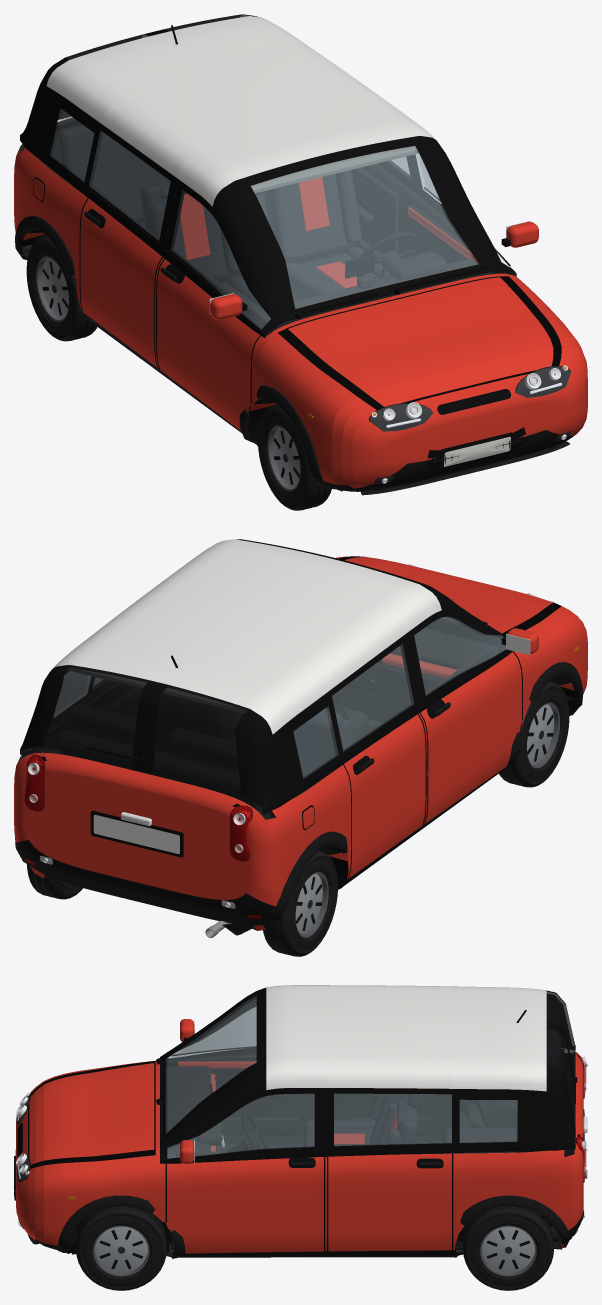
The model's file is pico_lod1.glb.
3 renders of one model, top to bottom at view 1: azimuth 30°, elevation 25°; view 2: azimuth 150°, elevation 25°; view 3: azimuth 270°, elevation 25°, orthographic. The views are drawn at different scales.
Parts seen in each view (by area): view 1: pico, hood, door_FR, door_RR, seat_driver, seat_passenger, seat_rear, popout_RR, wheel_FR, wheel_RR, door_card_RL, door_FL (+4 smaller); view 2: pico, tailgate, door_FR, door_RR, seat_rear, popout_RR, wheel_RR, hood, wheel_FR, seat_driver, seat_passenger, dash_glovebox (+3 smaller); view 3: pico, door_FL, door_RL, hood, wheel_FL, wheel_RL, popout_RL, tailgate, door_card_FR, door_FR, door_card_RR, seat_passenger (+4 smaller).
Part boxes in pixels (x1,y1,x2,y2): pico: (14, 16, 587, 495); hood: (288, 277, 553, 406); door_FR: (155, 179, 271, 443); door_RR: (79, 124, 174, 367); seat_driver: (263, 170, 388, 299); seat_passenger: (140, 180, 262, 310); seat_rear: (57, 124, 267, 227); popout_RR: (89, 131, 170, 240); wheel_FR: (258, 404, 331, 510); wheel_RR: (26, 235, 97, 341); door_card_RL: (343, 167, 398, 259); door_FL: (411, 153, 538, 274); pico: (14, 539, 587, 937); tailgate: (20, 665, 286, 826); door_FR: (407, 610, 538, 824); door_RR: (330, 635, 425, 879); seat_rear: (58, 704, 269, 819); popout_RR: (332, 644, 413, 751); wheel_RR: (263, 850, 337, 956); hood: (345, 557, 552, 633); wheel_FR: (499, 681, 569, 787); seat_driver: (142, 689, 236, 753); seat_passenger: (293, 708, 354, 795); dash_glovebox: (385, 667, 442, 702); pico: (14, 985, 587, 1258); door_FL: (166, 1088, 326, 1258); door_RL: (328, 1088, 455, 1251); hood: (29, 1063, 154, 1164); wheel_FL: (76, 1205, 166, 1290); wheel_RL: (463, 1205, 553, 1290); popout_RL: (334, 1093, 451, 1145); tailgate: (546, 990, 587, 1150); door_card_FR: (176, 1059, 314, 1135); door_FR: (167, 1002, 303, 1145); door_card_RR: (337, 1093, 444, 1135); seat_passenger: (303, 1094, 402, 1146).
Bounding box in the file's own units: 1.96 × 1.58 × 3.59.
63 materials, 6 textured.
